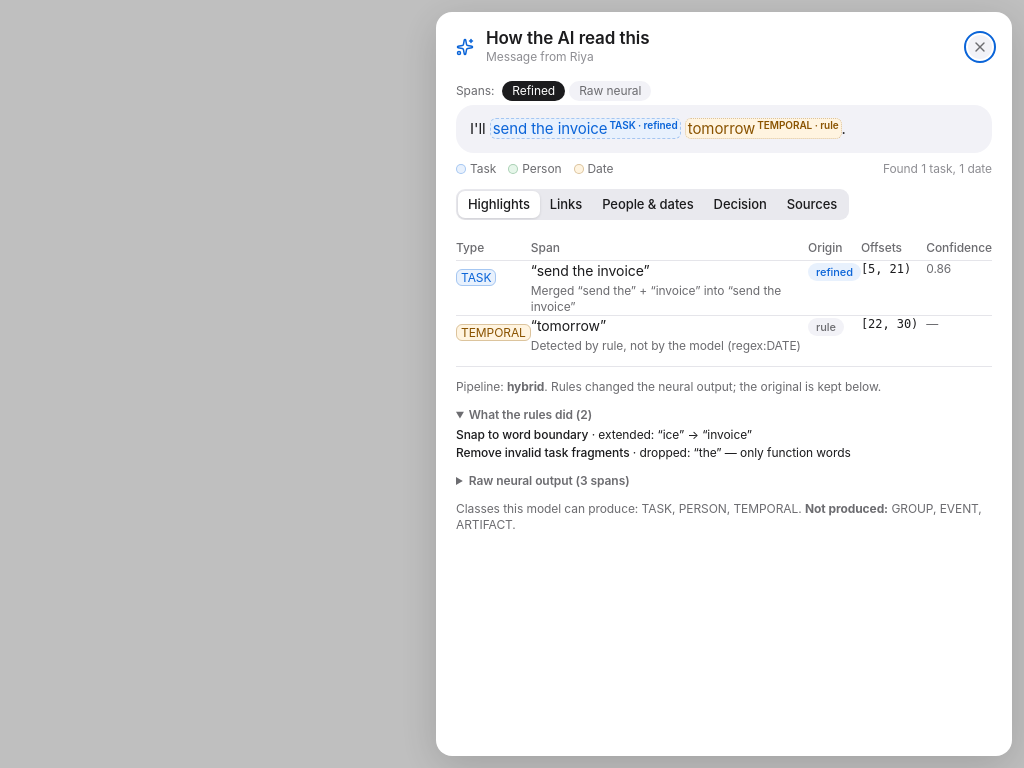
Test: Inspector separates raw neural, refined and rule output › lists what the rules did, and keeps the raw neural output available
Expected: the text "Snap to word boundary" is shown, [456, 427, 588, 442]
Expected: the list item "Snap to word boundary · extended: “ice” → “invoice”" is shown, [456, 427, 752, 442]
Click the heading "Raw neural output (3 spans)": coordinates (549, 481) [469, 473, 630, 488]
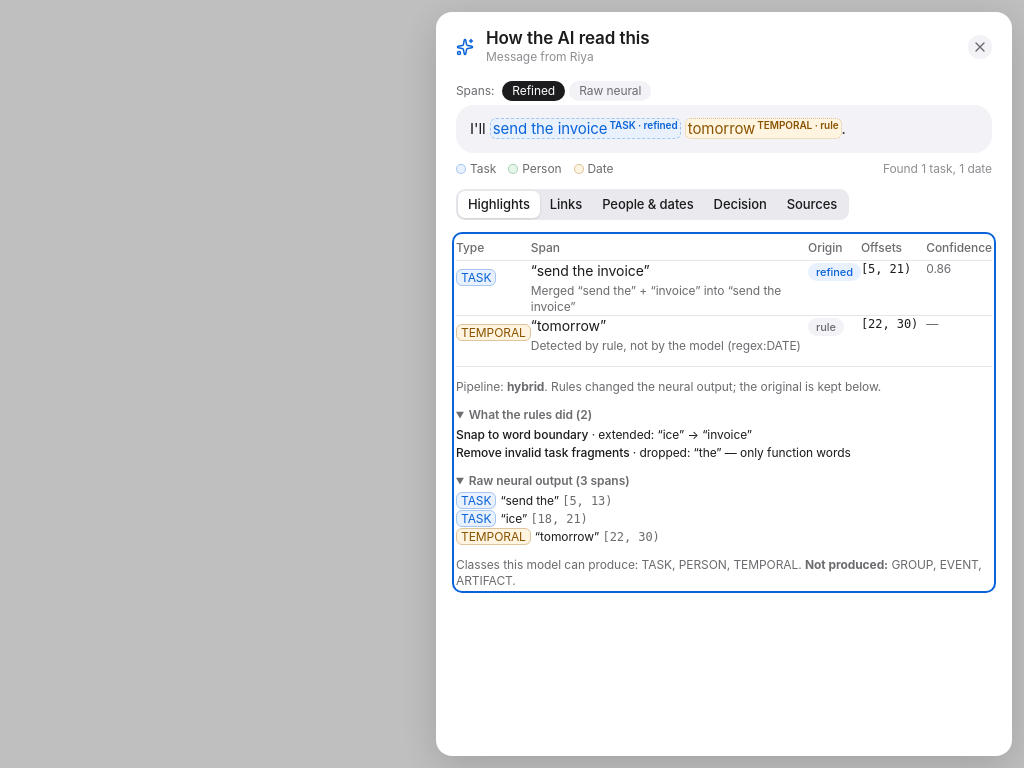
Now the list item "TASK“ice” [18, 21)" is shown, box [456, 510, 588, 527]
